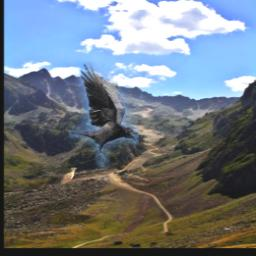Crow: (70, 62, 140, 168)
Cuckoo: (57, 168, 78, 190)
